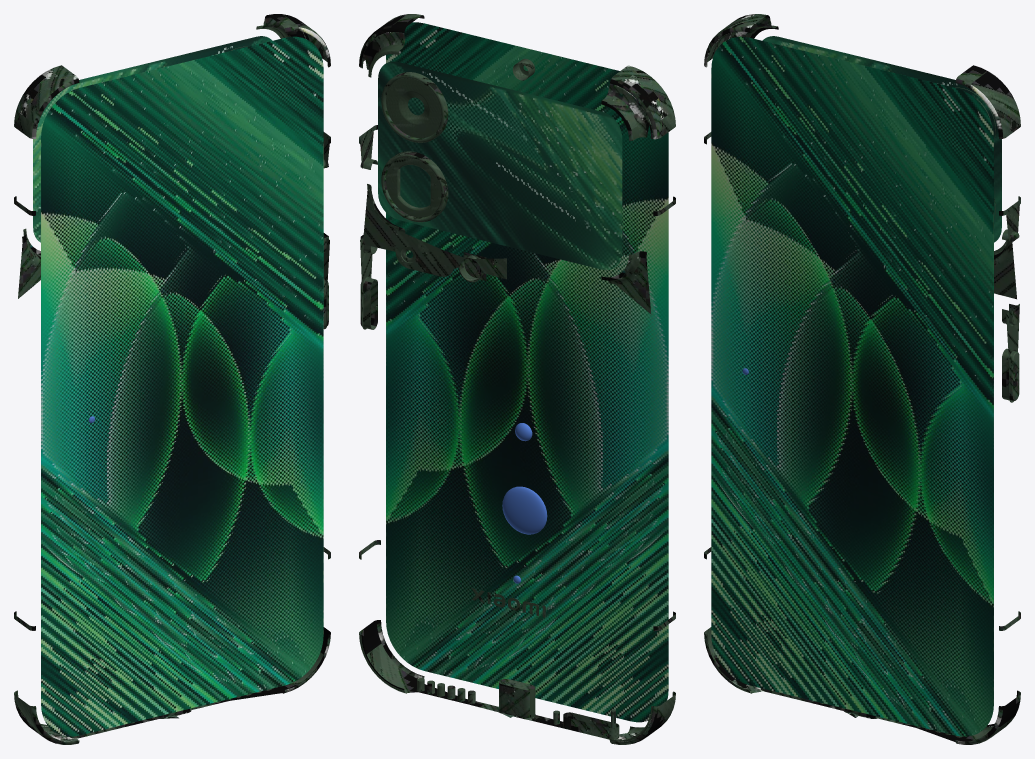
File: xiaomi-15-ultra.glb
3 views of the same model, side by side, from view 1: azimuth 30°, elevation 25°; view 2: azimuth 150°, elevation 25°; view 3: azimuth 330°, elevation 25° (orthographic).
Parts seen in each view (by area): view 1: Display_Display_0, Main_Main_0, Display 2_display back_0; view 2: Display_Display_0, Display 2_display back_0, Main_Main_0, Lens_Lens_0; view 3: Display_Display_0, Main_Main_0, Display 2_display back_0.
Part boxes in pixels (x1=…): Display_Display_0: x1=41, y1=36, x2=323, y2=736; Main_Main_0: x1=14, y1=14, x2=330, y2=744; Display 2_display back_0: x1=33, y1=36, x2=272, y2=242; Display_Display_0: x1=386, y1=22, x2=668, y2=722; Display 2_display back_0: x1=378, y1=61, x2=622, y2=269; Main_Main_0: x1=359, y1=14, x2=675, y2=744; Lens_Lens_0: x1=502, y1=423, x2=547, y2=583; Display_Display_0: x1=711, y1=36, x2=993, y2=736; Main_Main_0: x1=704, y1=14, x2=1020, y2=744; Display 2_display back_0: x1=762, y1=36, x2=1001, y2=242.
Size of the model in its own units: 238 by 499 by 53.91.
4 materials, 3 textured.
